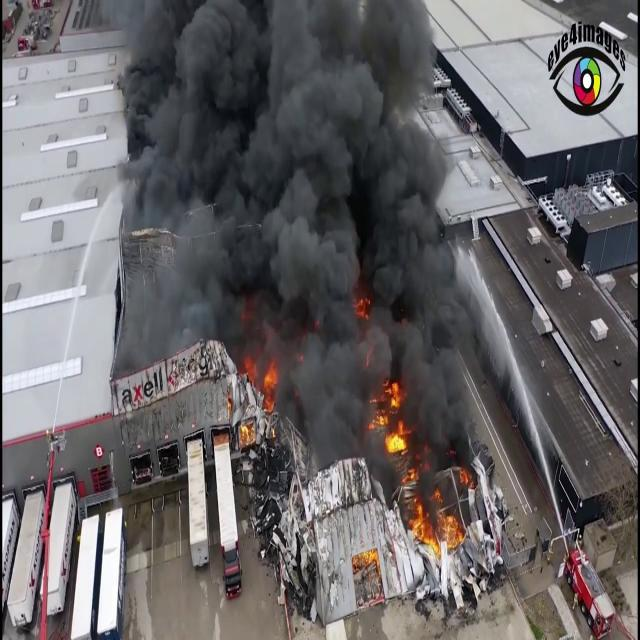Fire: (406, 496, 472, 584), (366, 373, 416, 457)
Smoke: (91, 2, 496, 496)
